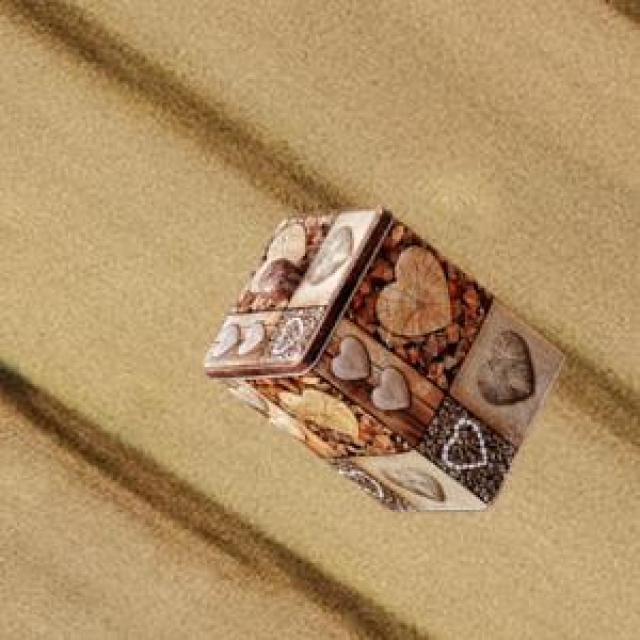Can: (199, 204, 562, 509)
